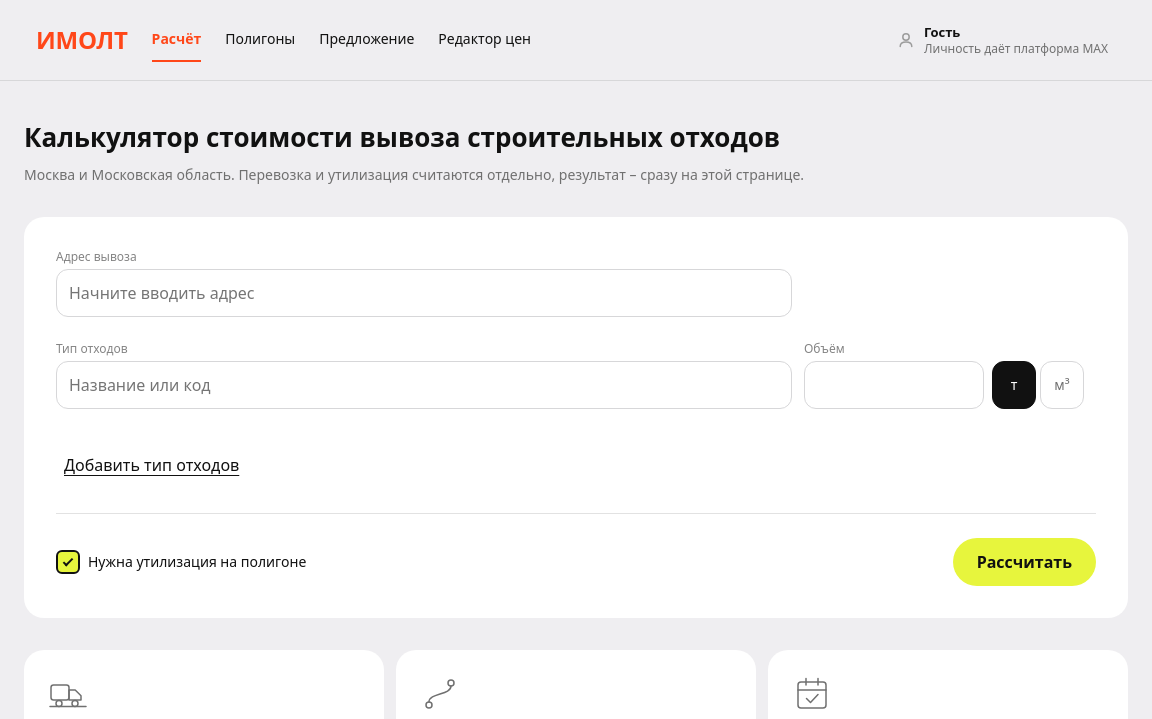
сравнение полигонов на широком экране › показано таблицей со столбцами, а не карточками
Type "Годовикова" into the dropdown labelled "Адрес вывоза" at (424, 293), box top-left (56, 269), bottom-right (792, 317)
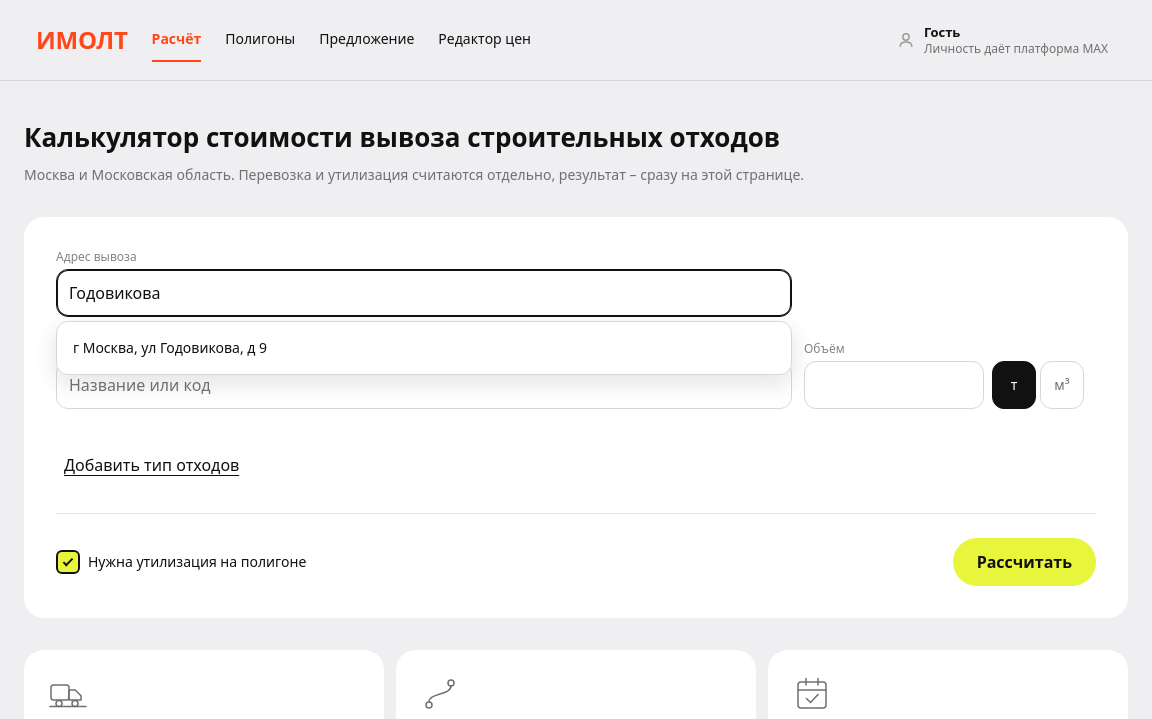
Click the option "г Москва, ул Годовикова, д 9" at (170, 348), box top-left (73, 338), bottom-right (267, 357)
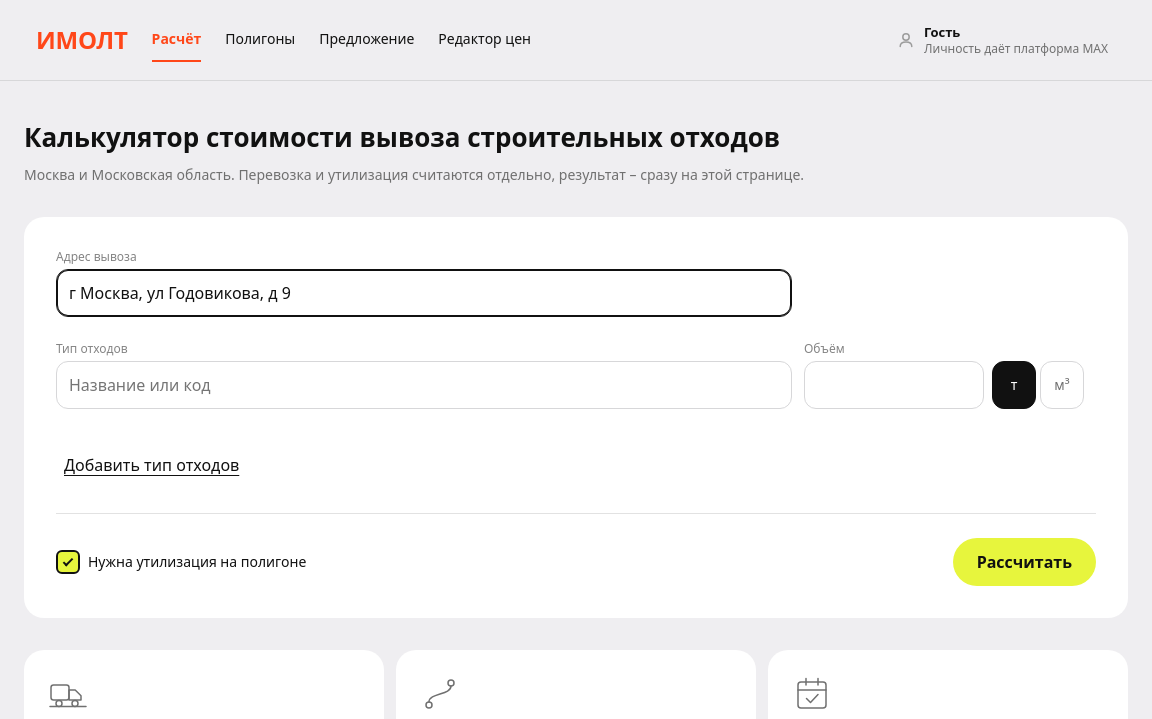
Type "лом" into the dropdown labelled "Тип отходов" at (424, 385), box top-left (56, 361), bottom-right (792, 409)
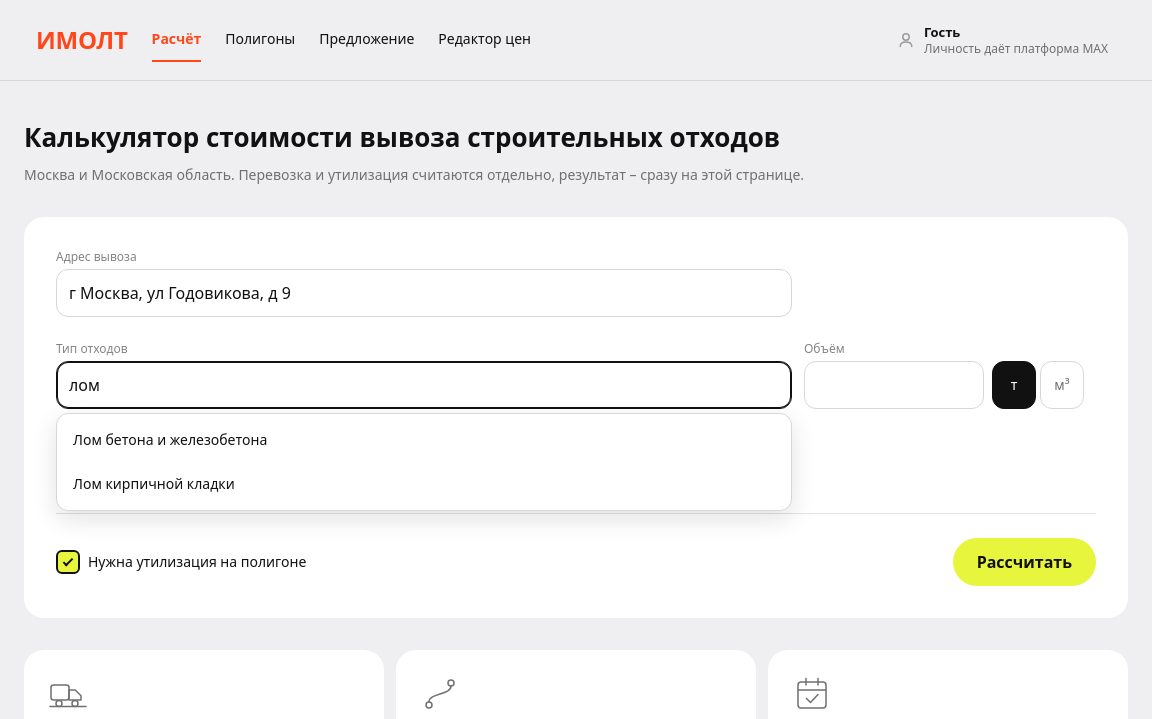
Click the option "Лом бетона и железобетона" at (170, 440), box top-left (73, 430), bottom-right (267, 449)
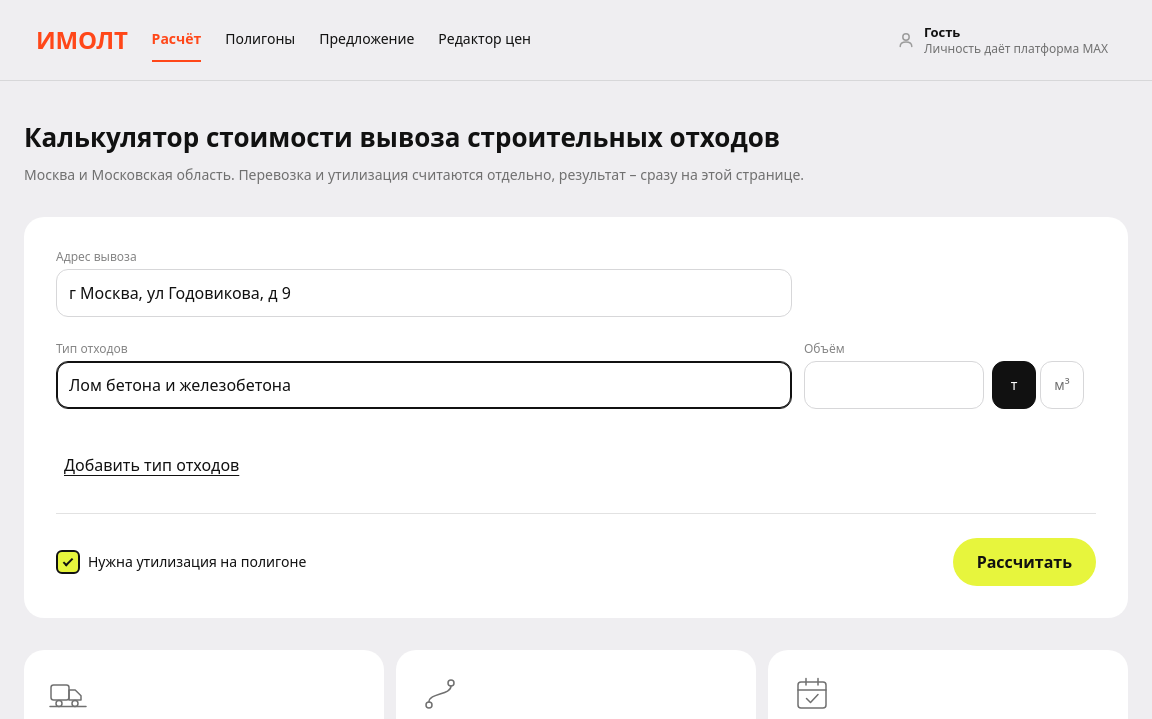
Type "20" into the field labelled "Объём" at (894, 385), box top-left (804, 361), bottom-right (984, 409)
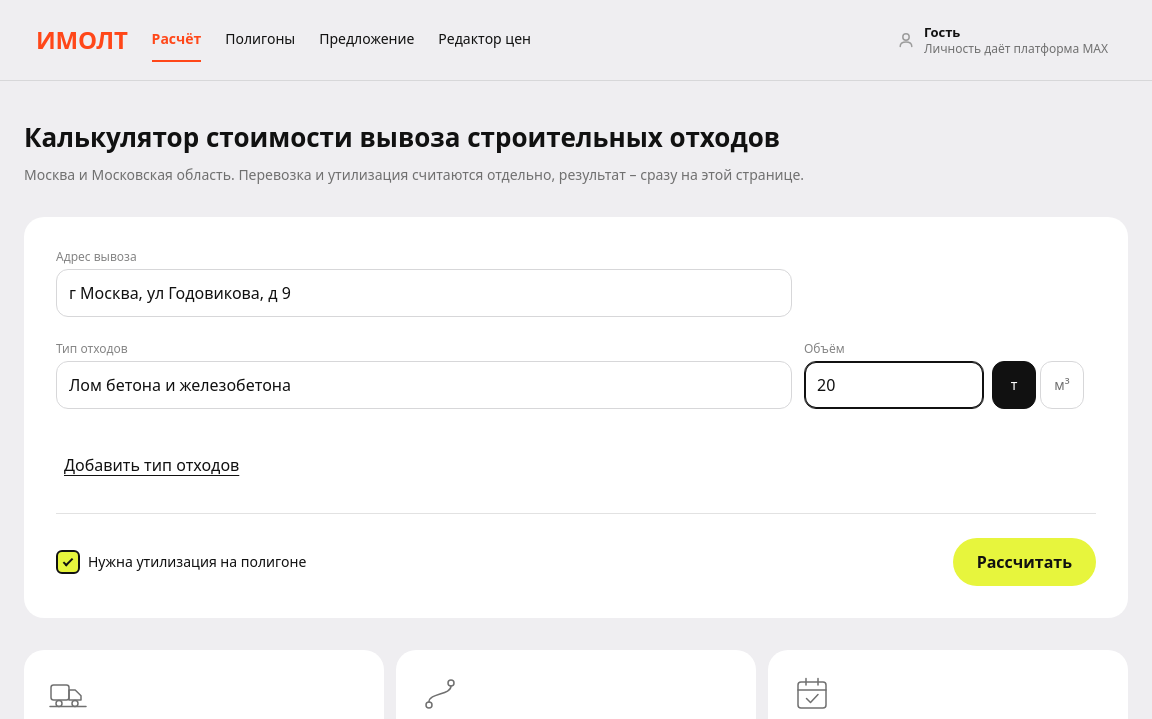
Click the button "Рассчитать" at (1024, 562), box top-left (953, 538), bottom-right (1096, 586)
(page scrolled)
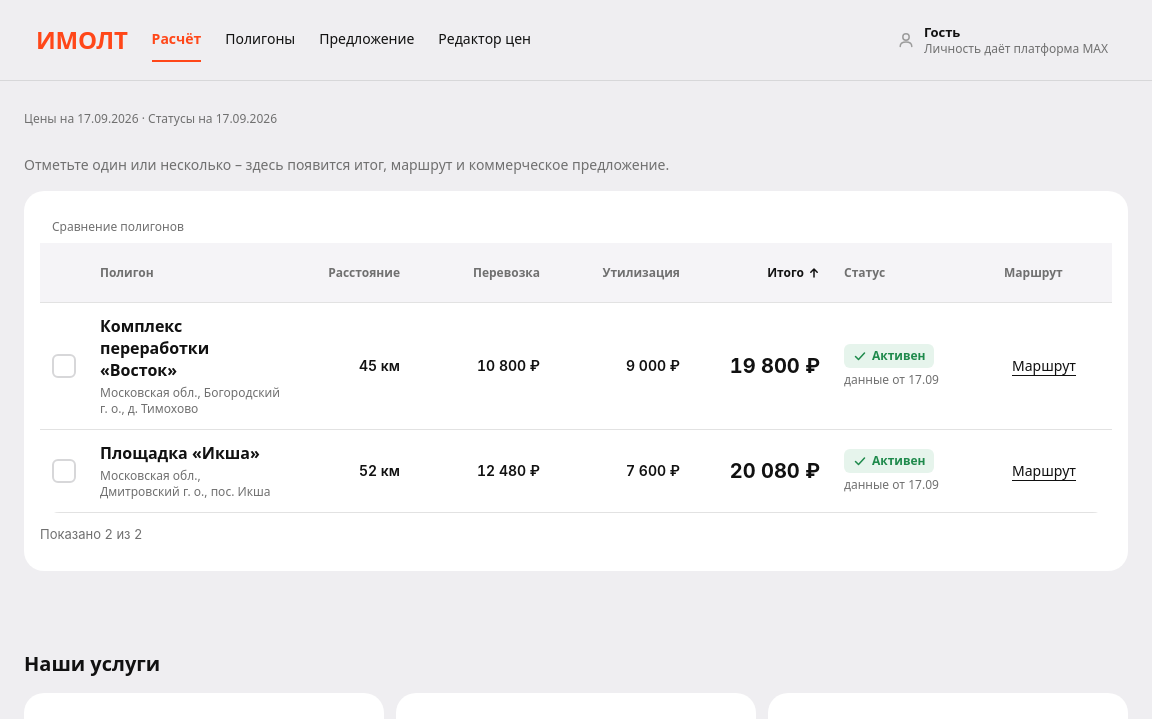
Expected: the table "Сравнение полигонов" is shown, top-left (40, 207), bottom-right (1112, 513)
